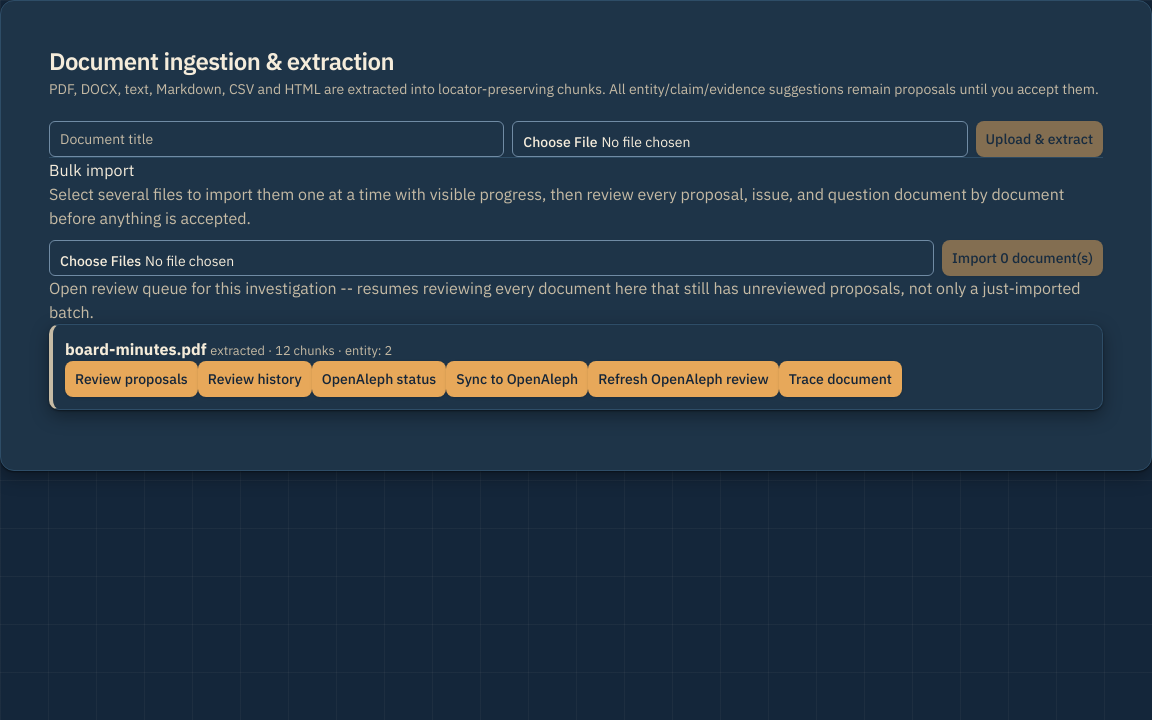
Test case: DocumentsPanel upload and review › rejects a proposal and shows why a review failed
Expected: the text "board-minutes.pdf" is shown, [65,339,207,359]
Click the button "Review proposals": (131,379) [65,361,198,397]
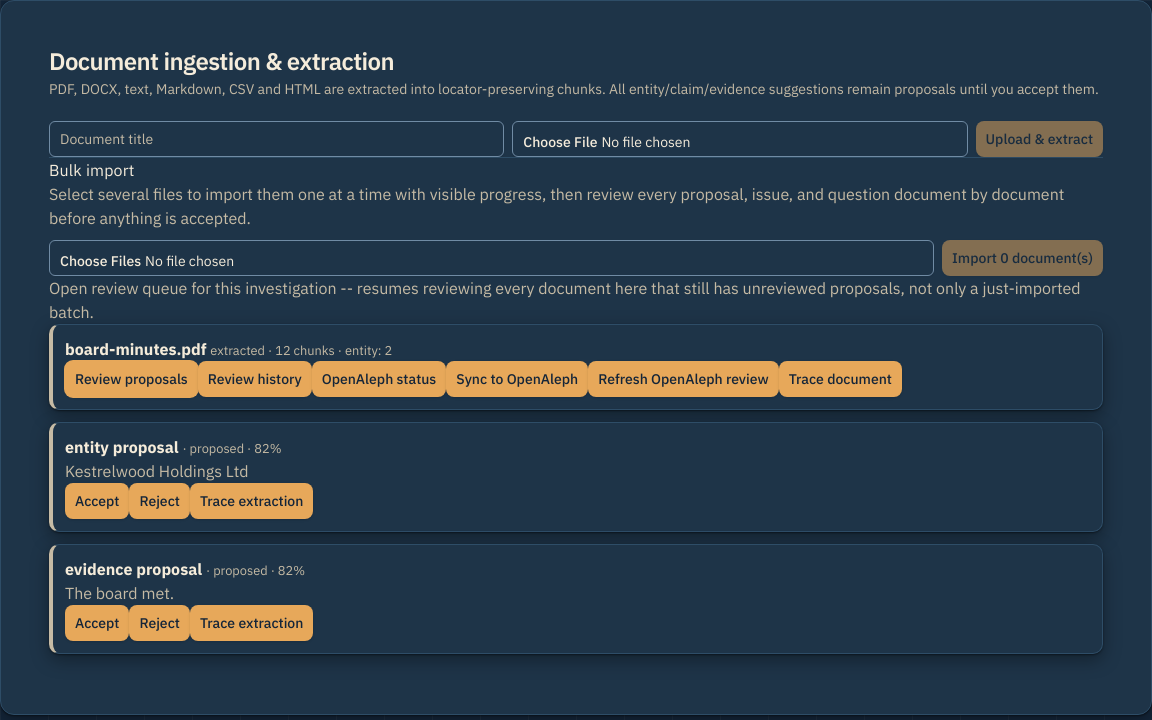
Expected: the text "The board met." is shown, [65,583,174,603]
Click the button "Reject" below "Kestrelwood Holdings Ltd": (160,501) [129,483,190,519]
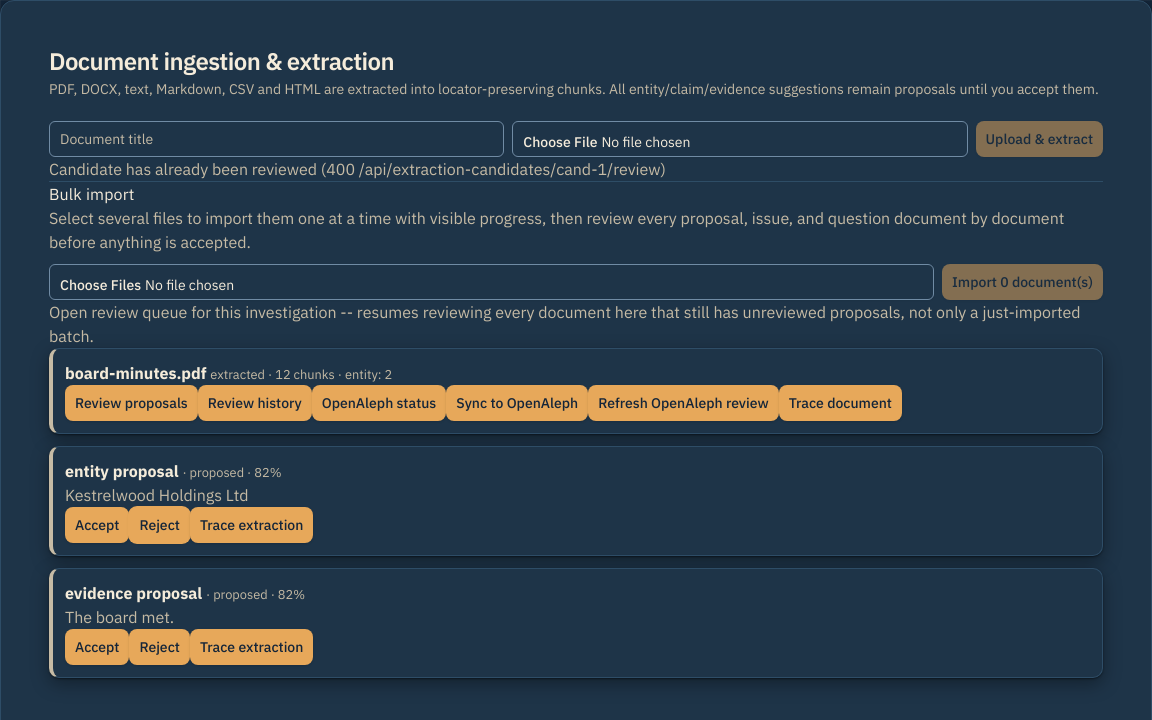
Expected: the text "Kestrelwood Holdings Ltd" is shown, [65,485,249,505]
Expected: the text "Candidate has already been reviewed" is shown, [49,159,666,179]
Click the button "Reject" below "Kestrelwood Holdings Ltd": (160,525) [129,507,190,543]
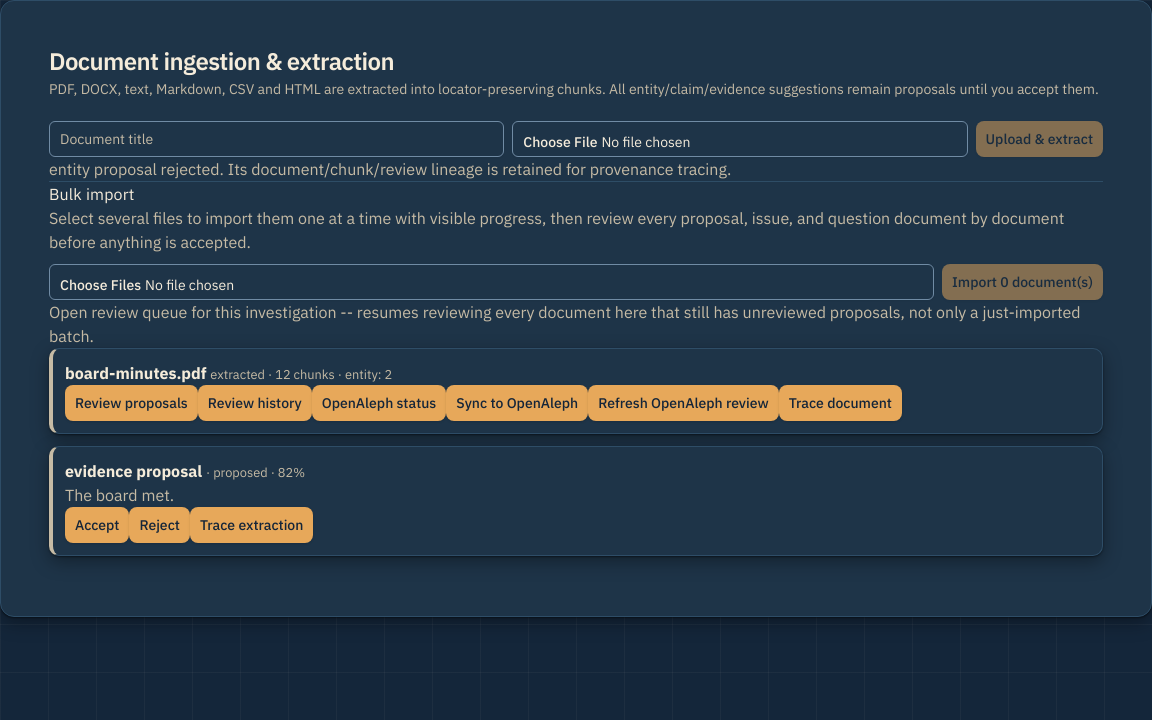
Expected: the text "The board met." is shown, [65,485,174,505]
Expected: the text "entity proposal rejected. Its document/chunk/review lineage is retained for provenance tracing." is shown, [49,159,731,179]
Expected: the text "Kestrelwood Holdings Ltd" is gone
